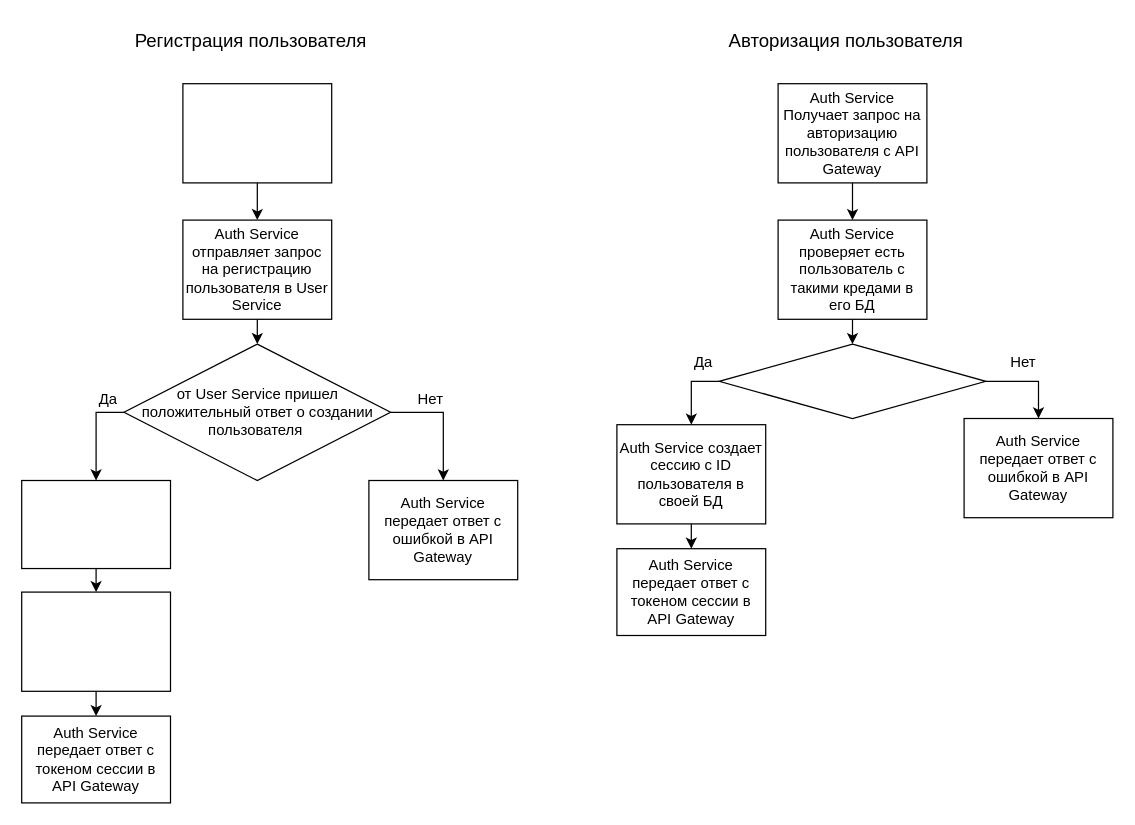
The diagram is 1135 pixels wide and 825 high, and some of its shapes have lost their labels. The shapes that lost their labels are listed below. From the top down, each one's centre as x and y in pixels, then its label:
At point 257,132: "Auth Service Получает запрос на регистрацию пользователя с API Gateway".
At point 852,380: "Такой пользователь есть".
At point 95,524: "Auth Service создает запись в своей БД с кредами пользователя и его ID".
At point 95,641: "Auth Service создает сессию с ID созданного пользователя в своей БД".
